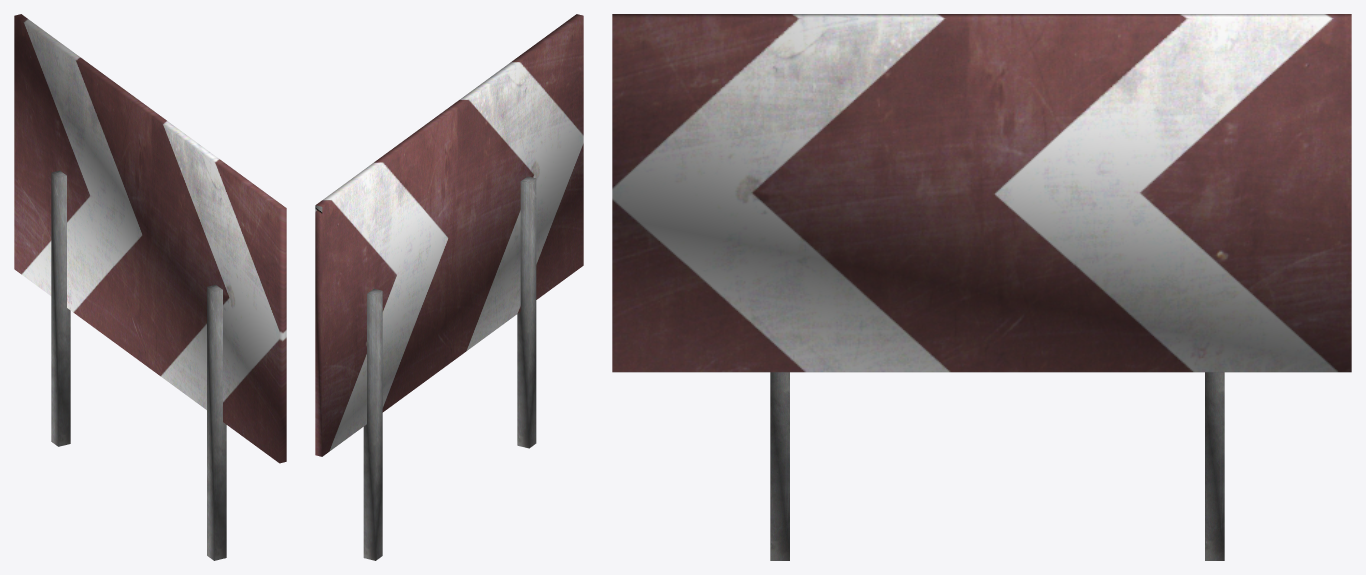
File: sign_narrow_tall_left_small.fbx
3 renders of one model, left to right at view 1: azimuth 30°, elevation 25°; view 2: azimuth 150°, elevation 25°; view 3: azimuth 270°, elevation 25°, orthographic. The views are drawn at different scales.
Parts seen in each view (by area): view 1: sign_narrow; view 2: sign_narrow; view 3: sign_narrow.
Part boxes in pixels (bbox=[...]): sign_narrow: bbox=[14, 14, 286, 560]; sign_narrow: bbox=[315, 14, 583, 560]; sign_narrow: bbox=[612, 14, 1351, 560].
Size of the model in its own units: 1.09 by 26 by 32.
